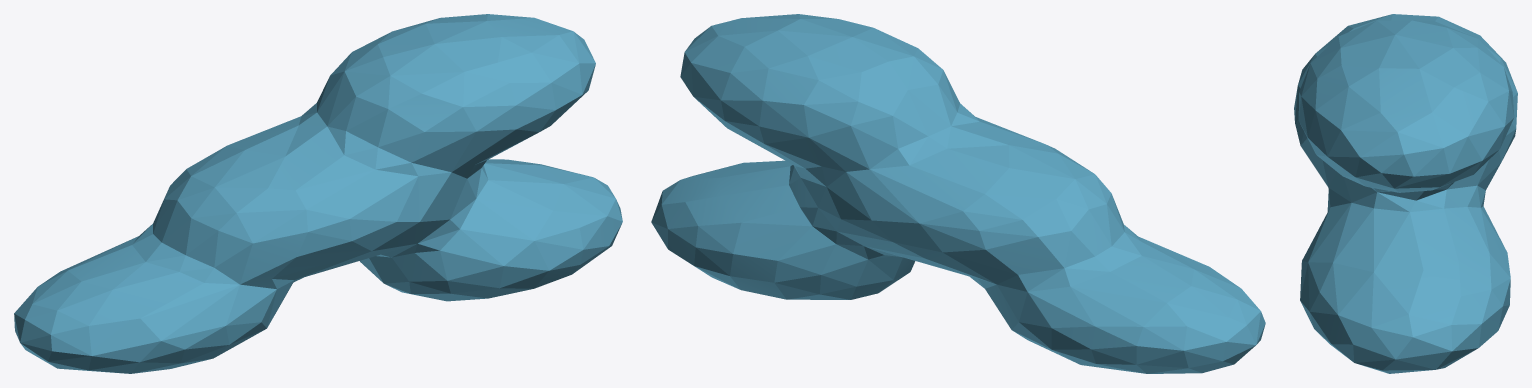
The model's file is oval_cloud_5.fbx.
3 views of the same model, side by side, from view 1: azimuth 30°, elevation 25°; view 2: azimuth 150°, elevation 25°; view 3: azimuth 270°, elevation 25° (orthographic). The views are drawn at different scales.
Visible parts, largest first — view 1: cloud_65; view 2: cloud_65; view 3: cloud_65.
Boxes of the visible parts, x1,y1,x2,y2 form: cloud_65: [14, 14, 622, 373]; cloud_65: [651, 14, 1265, 373]; cloud_65: [1294, 14, 1517, 373].
Bounding box in the file's own units: 529 × 218 × 160.
